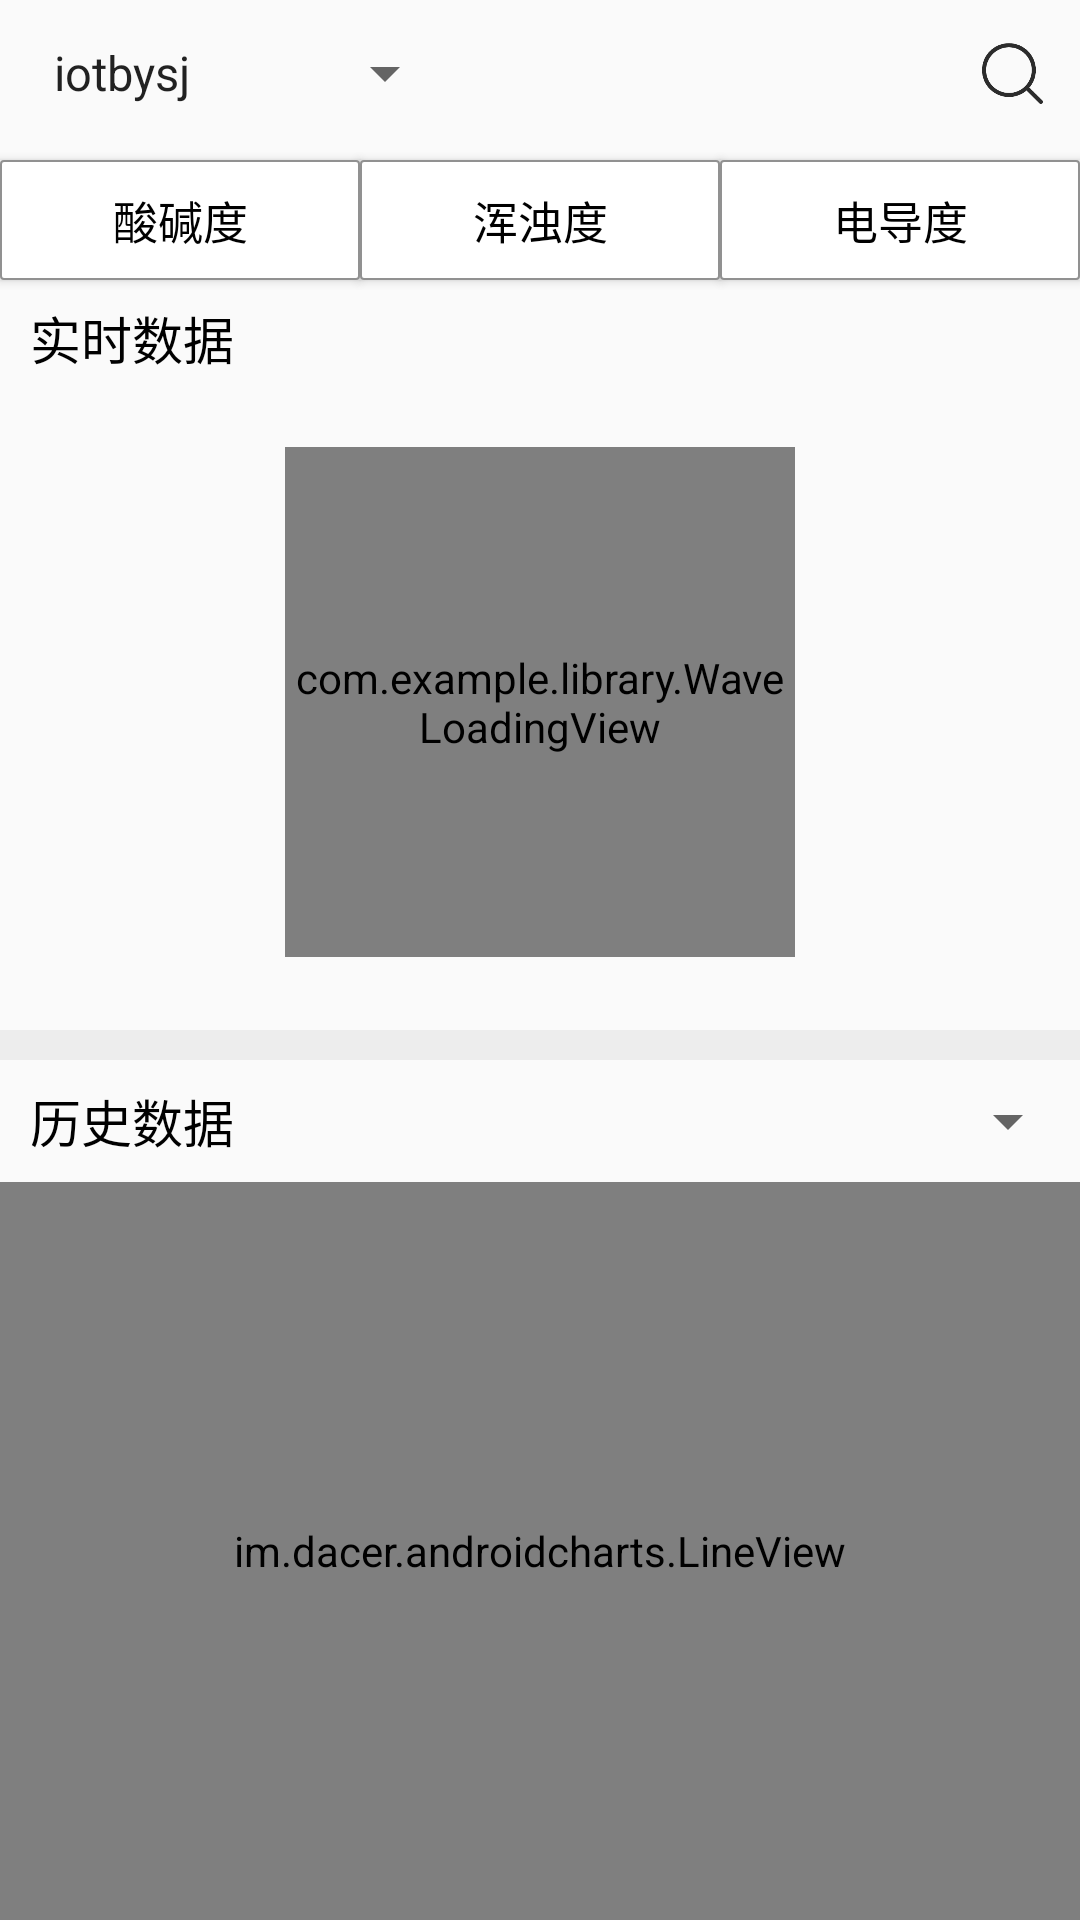

Locate icon controls on the screen. Image size 1080 x 1920, boxes as (x1, y1, x2, y2).
search: (982, 43, 1043, 104)
